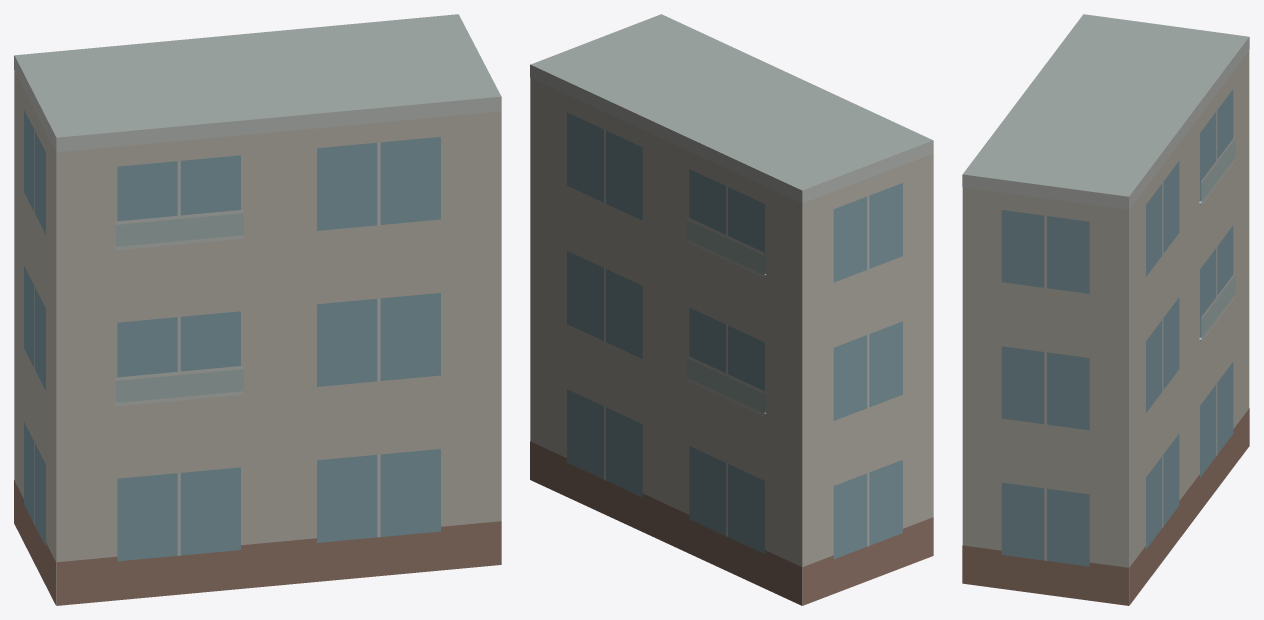
Rendered from survey-upis-32821882.glb.
3 renders of one model, left to right at view 1: azimuth 30°, elevation 25°; view 2: azimuth 150°, elevation 25°; view 3: azimuth 270°, elevation 25°, orthographic. The views are drawn at different scales.
Visible parts, largest first — view 1: survey-upis-32821882.tmp; view 2: survey-upis-32821882.tmp; view 3: survey-upis-32821882.tmp.
Boxes of the visible parts, x1=… form: survey-upis-32821882.tmp: x1=14, y1=14, x2=501, y2=605; survey-upis-32821882.tmp: x1=530, y1=14, x2=933, y2=605; survey-upis-32821882.tmp: x1=962, y1=14, x2=1249, y2=605.
Bounding box in the file's own units: 7.48 × 7.8 × 4.97.
